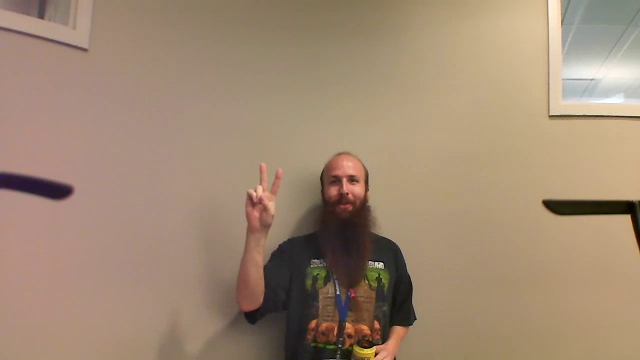peace: (235, 152, 294, 243)
